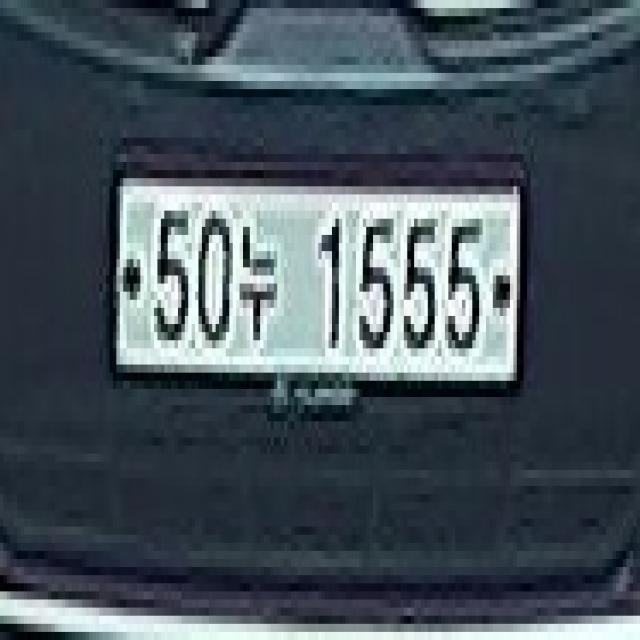0: (198, 205, 233, 346)
1: (314, 216, 347, 360)
5: (444, 215, 489, 362), (358, 205, 398, 352), (400, 211, 438, 357), (152, 207, 190, 345)
license_plate: (106, 157, 534, 390)
nu: (240, 212, 286, 348)
